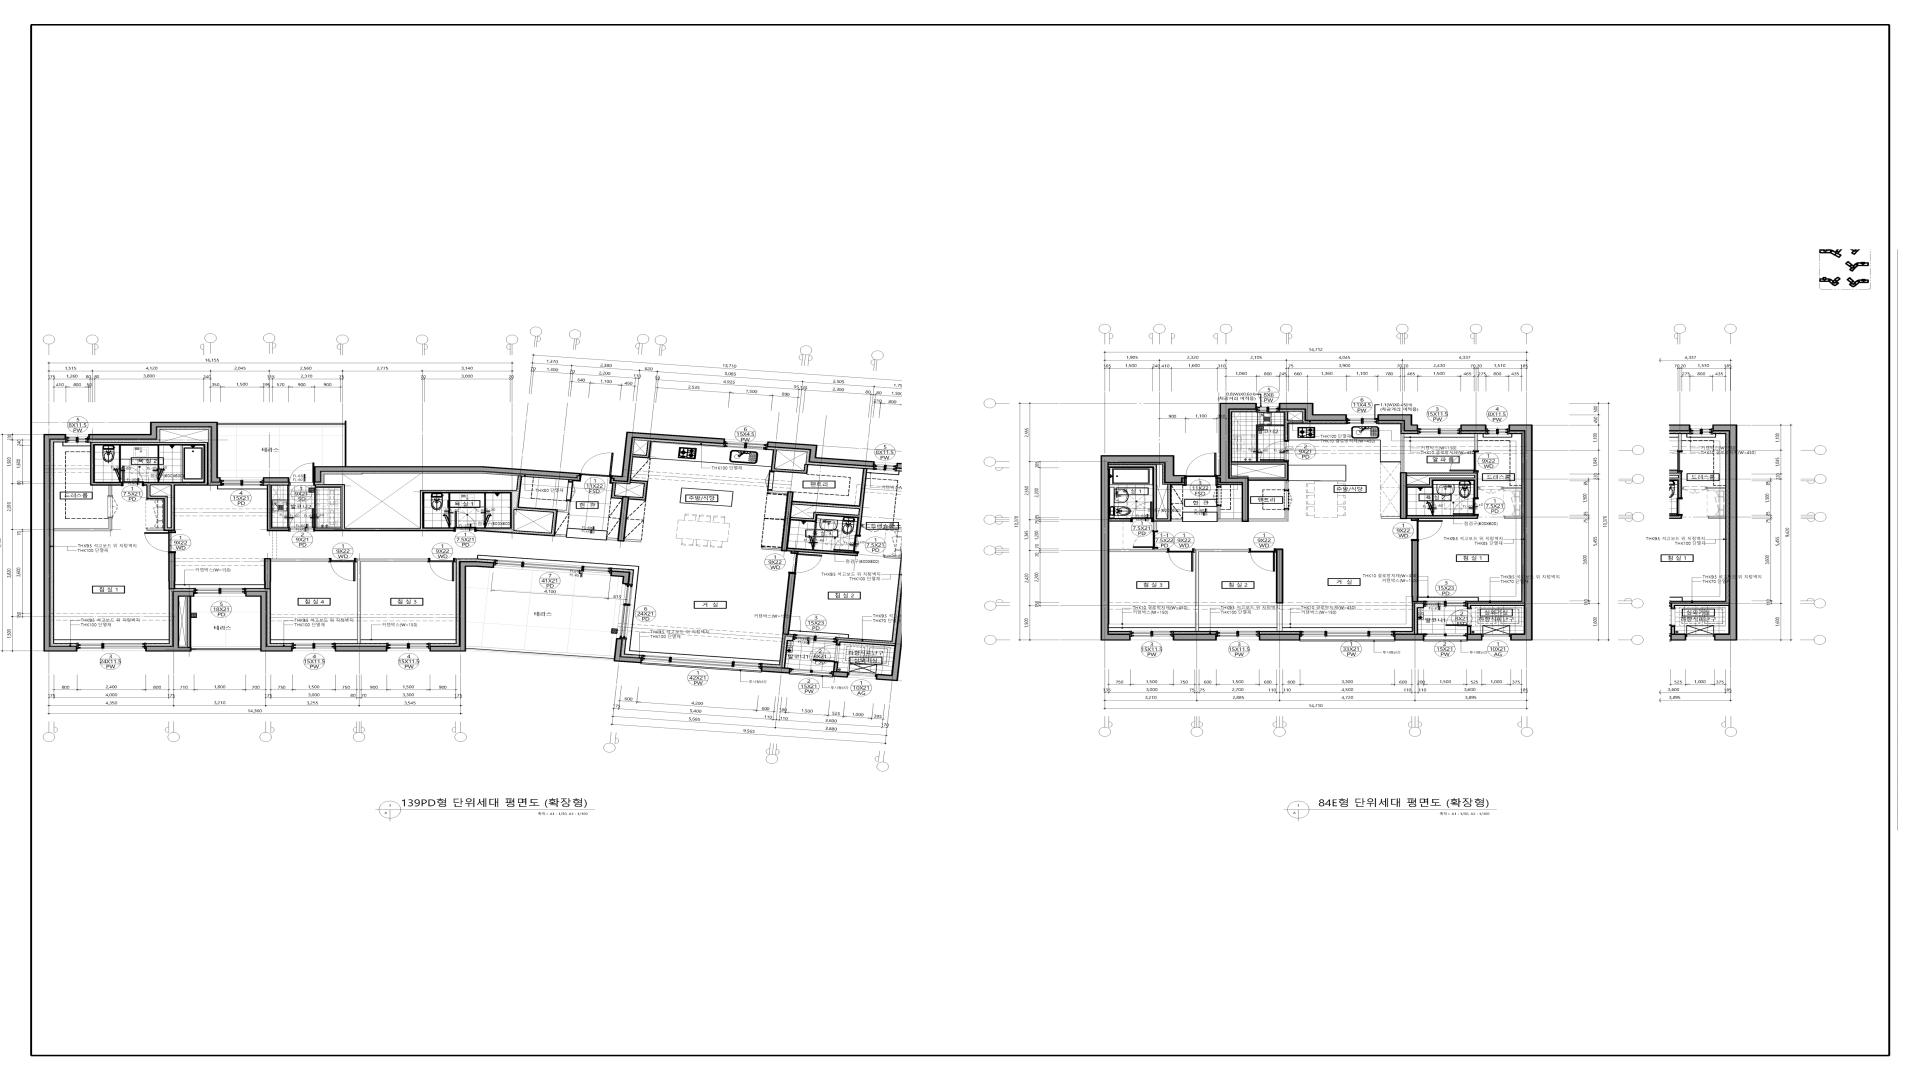door: (1185, 452, 1217, 485), (580, 451, 615, 479), (789, 551, 823, 575), (144, 531, 175, 553), (1411, 520, 1443, 541), (1167, 549, 1195, 572), (429, 558, 456, 582), (330, 558, 357, 582), (1249, 549, 1276, 572), (1449, 451, 1480, 472), (289, 508, 315, 531), (1259, 442, 1290, 462), (289, 463, 314, 485), (833, 534, 861, 553), (812, 644, 840, 662), (1445, 608, 1472, 626), (1130, 501, 1153, 522), (121, 465, 144, 487), (1453, 497, 1478, 516), (454, 512, 476, 531), (1133, 531, 1158, 549), (108, 496, 119, 518), (764, 471, 775, 491), (861, 524, 886, 533), (1478, 487, 1503, 493), (1284, 491, 1292, 509)
wall: (315, 475, 571, 537), (1101, 455, 1185, 641), (90, 442, 208, 531), (877, 463, 922, 682), (88, 422, 220, 483), (44, 434, 78, 651), (357, 559, 429, 644), (218, 421, 347, 467), (430, 560, 495, 651), (612, 431, 725, 483), (791, 468, 868, 535), (1509, 425, 1532, 641), (1217, 402, 1257, 522), (1195, 549, 1249, 632), (1109, 464, 1183, 522), (314, 467, 580, 483), (145, 591, 194, 651), (245, 591, 293, 651), (767, 442, 874, 467), (467, 646, 615, 661), (1407, 472, 1478, 497), (1232, 463, 1288, 489), (1279, 402, 1348, 421), (266, 484, 289, 531), (770, 450, 808, 475), (782, 574, 796, 634), (781, 492, 794, 551), (54, 518, 112, 531), (613, 638, 641, 663), (1378, 414, 1418, 431), (787, 547, 858, 556), (617, 496, 629, 542), (1284, 411, 1303, 440), (1411, 541, 1419, 601), (1249, 509, 1288, 521), (629, 480, 649, 501), (836, 640, 894, 646), (782, 636, 794, 667), (1276, 549, 1283, 604), (1217, 506, 1242, 521), (191, 646, 260, 651), (633, 440, 651, 459), (1414, 603, 1424, 634), (1400, 472, 1407, 520), (1466, 603, 1524, 608), (1172, 634, 1217, 641), (1407, 516, 1478, 520), (335, 646, 388, 651), (1259, 634, 1300, 641), (611, 571, 630, 584), (264, 558, 272, 589), (169, 554, 175, 589), (1109, 549, 1167, 553), (762, 666, 791, 674), (611, 483, 622, 500), (1394, 634, 1424, 641), (187, 597, 191, 647), (1276, 604, 1283, 632), (1461, 425, 1486, 431), (272, 559, 330, 562), (1400, 434, 1404, 472), (262, 477, 289, 483), (1466, 633, 1482, 641), (833, 671, 848, 678), (1109, 518, 1131, 522), (767, 491, 787, 495), (762, 547, 781, 551), (886, 526, 905, 530), (1474, 434, 1478, 451), (625, 538, 641, 542), (833, 662, 839, 671), (1503, 487, 1522, 489), (884, 556, 901, 559), (1153, 522, 1156, 531), (1466, 626, 1472, 633), (607, 538, 617, 541), (1381, 517, 1400, 518), (1505, 517, 1522, 518), (1217, 485, 1221, 487)
window: (641, 655, 762, 673), (495, 559, 612, 576), (1300, 630, 1394, 641), (616, 584, 633, 640), (78, 642, 145, 651), (794, 634, 837, 645), (725, 439, 767, 450), (1418, 425, 1461, 434), (790, 669, 833, 678), (195, 588, 245, 596), (1217, 630, 1259, 640), (1130, 630, 1172, 640), (220, 477, 262, 487), (293, 642, 335, 651), (388, 642, 430, 651), (1424, 633, 1466, 641), (1348, 415, 1378, 425), (1424, 600, 1466, 607), (1486, 425, 1509, 435), (874, 462, 897, 472), (1257, 404, 1279, 413), (848, 673, 877, 679), (66, 435, 88, 443), (1482, 634, 1510, 640)
